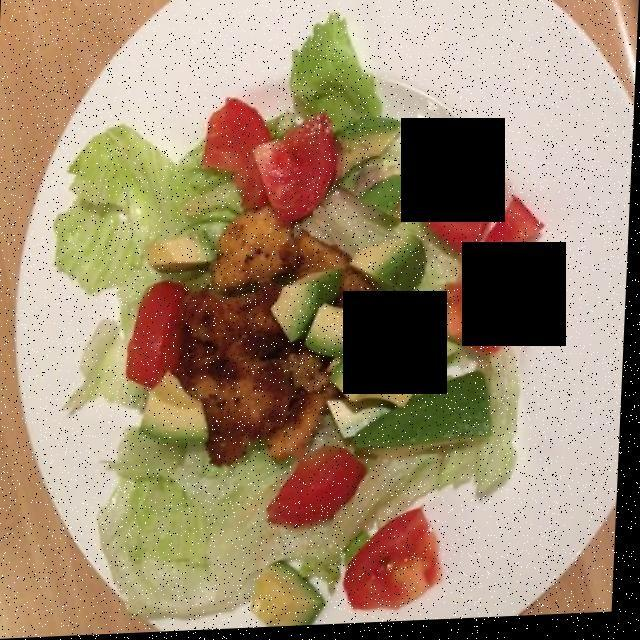avocado: (267, 222, 498, 465)
chicken: (172, 203, 342, 469)
tomato: (193, 87, 549, 371)
